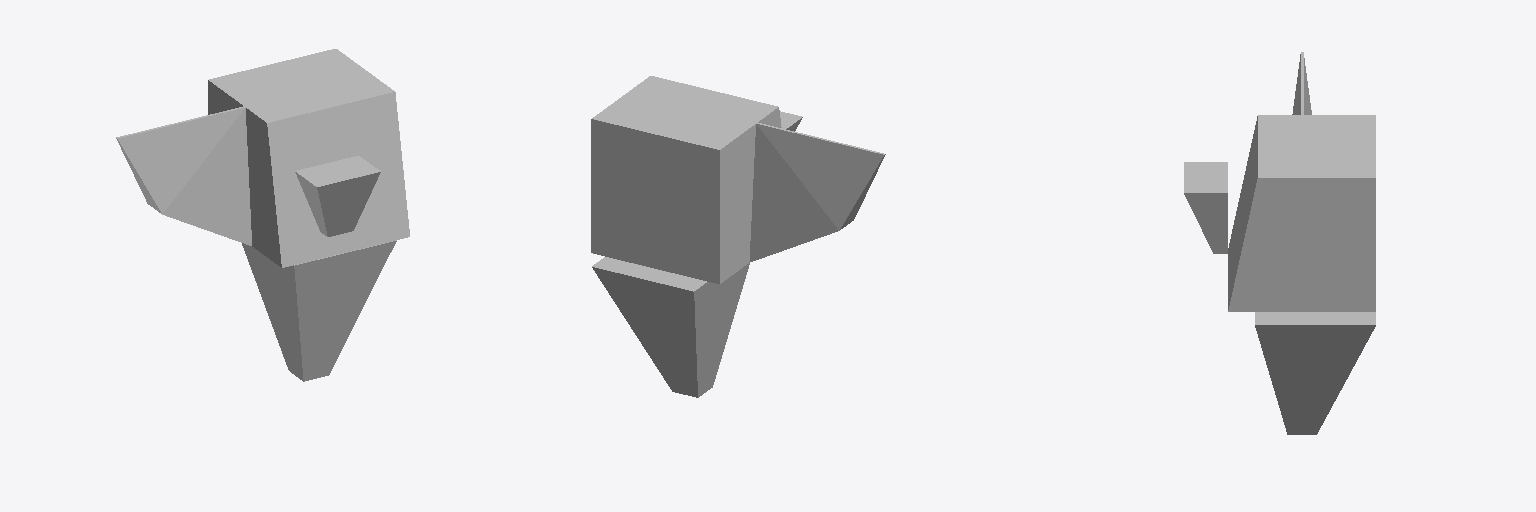
Rendered from thing1-y+z.obj.
The picture shows the model from 3 angles: view 1: azimuth 30°, elevation 25°; view 2: azimuth 150°, elevation 25°; view 3: azimuth 270°, elevation 25°; orthographic projection.
Visible parts, largest first — view 1: Cube; view 2: Cube; view 3: Cube.
Part boxes in pixels (bbox=[...]): Cube: bbox=[116, 49, 409, 381]; Cube: bbox=[591, 76, 885, 397]; Cube: bbox=[1184, 52, 1375, 434].
Size of the model in its own units: 1 by 1.05 by 0.65.